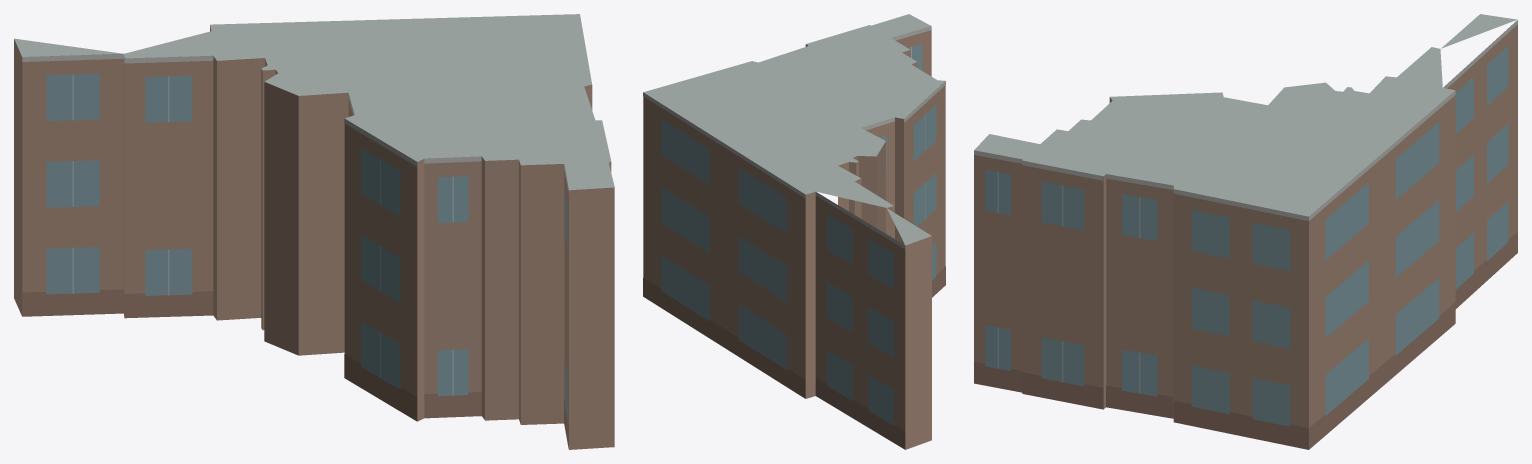
File: survey-upis-32713602.glb
3 views of the same model, side by side, from view 1: azimuth 30°, elevation 25°; view 2: azimuth 150°, elevation 25°; view 3: azimuth 270°, elevation 25° (orthographic). The views are drawn at different scales.
Parts seen in each view (by area): view 1: survey-upis-32713602.tmp; view 2: survey-upis-32713602.tmp; view 3: survey-upis-32713602.tmp.
Part boxes in pixels (<box>): survey-upis-32713602.tmp: <box>14,14,614,449</box>; survey-upis-32713602.tmp: <box>643,14,945,449</box>; survey-upis-32713602.tmp: <box>974,14,1517,449</box>.
Bounding box in the file's own units: 23.45 × 12.58 × 26.59.
